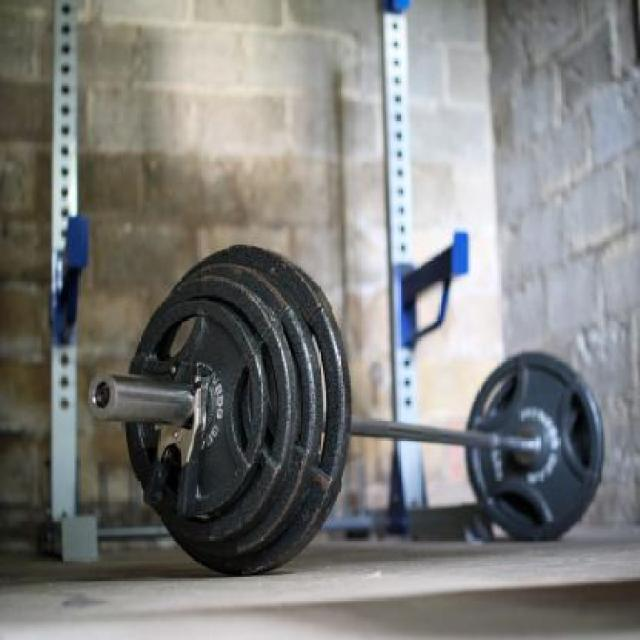barbell: (83, 237, 365, 585)
